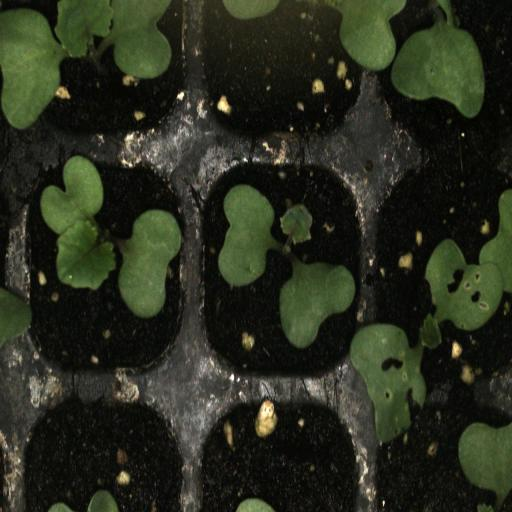Folha: (347, 189, 512, 443), (218, 184, 312, 287), (279, 261, 355, 348), (0, 288, 32, 352)
Germinacao: (192, 153, 370, 385), (16, 154, 190, 381), (15, 0, 190, 151)
